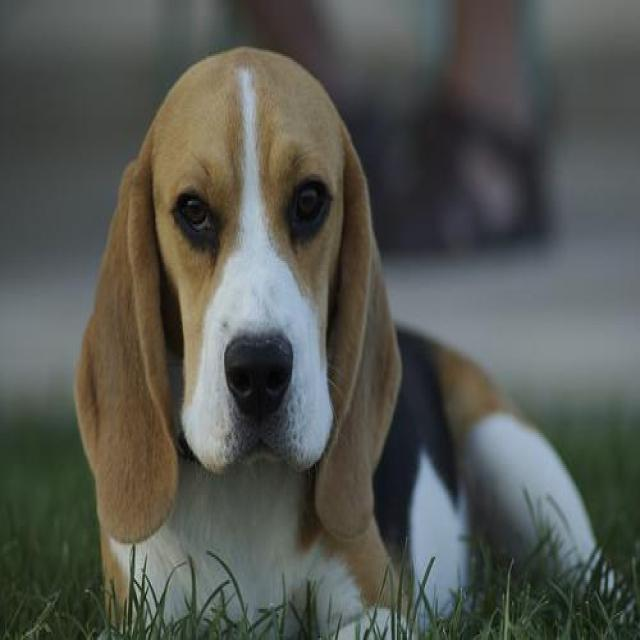beagle: (73, 43, 618, 634)
